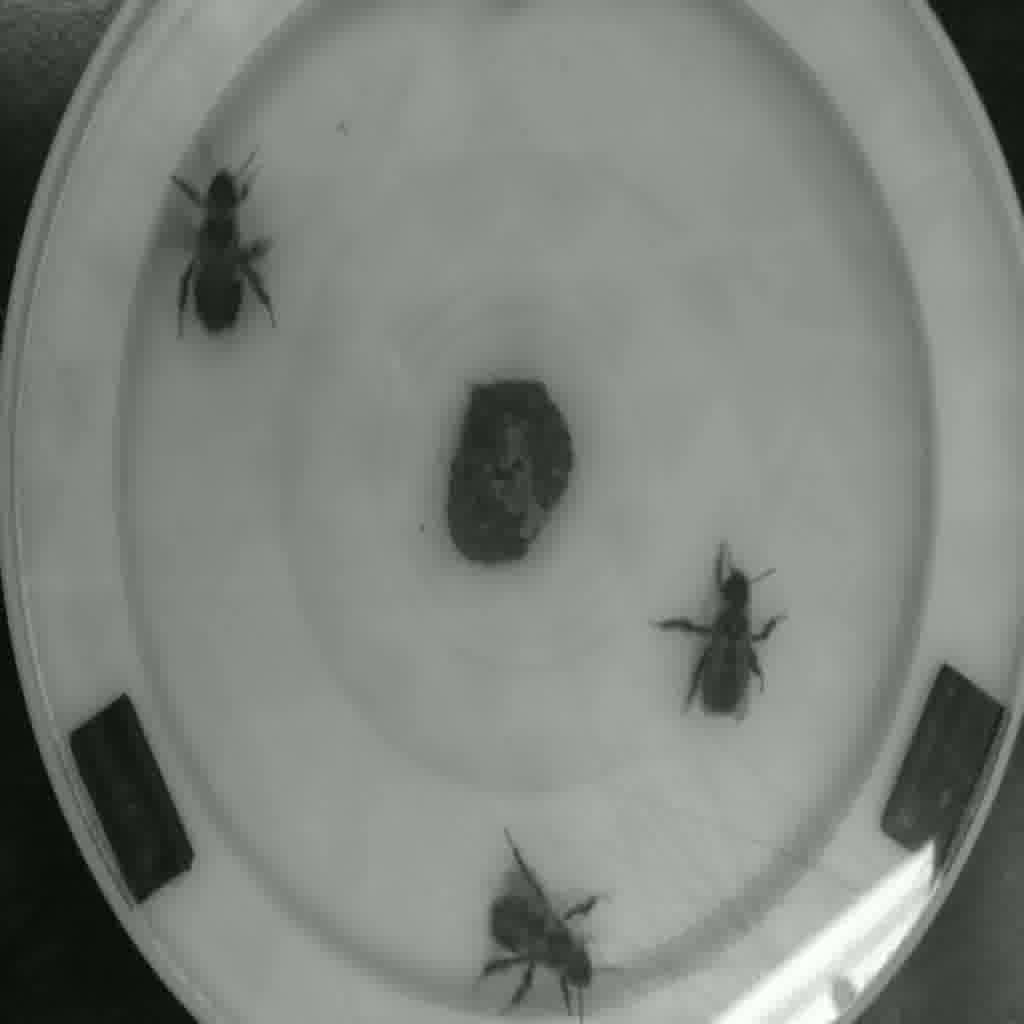bee: (464, 845, 636, 1024), (651, 542, 809, 710), (169, 166, 296, 364)
